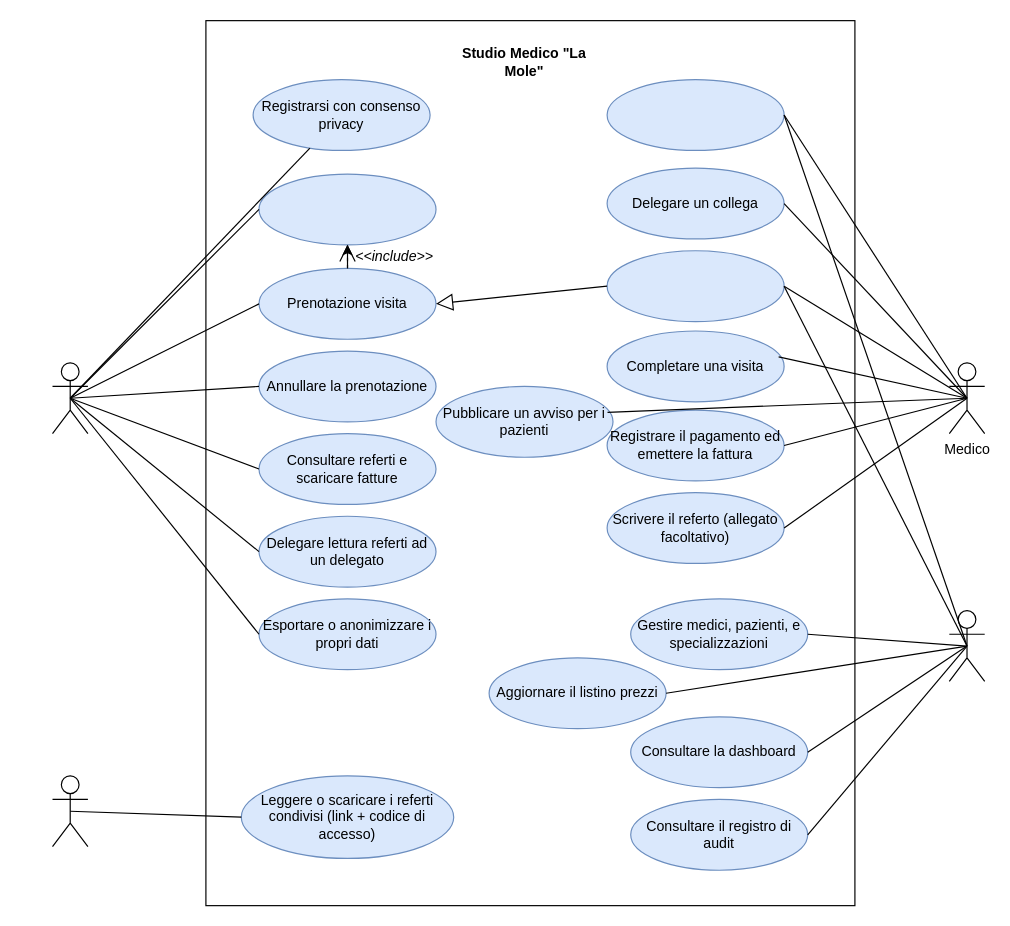
The diagram is 1010 pixels wide and 926 high, and some of its shapes have lost their labels. The centre of each missing label's shape, as x and y in pixels:
"Admin" goes at point (966, 645).
"Delegato (senza account)" goes at point (69, 811).
"Gestire orari, agenda e assenze" goes at point (695, 114).
"Paziente" goes at point (69, 398).
"Prenotare per conto di un paziente" goes at point (695, 286).
"Ricerca della disponibilità" goes at point (347, 209).
